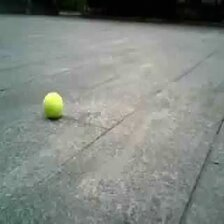tennis: (44, 92, 63, 118)
